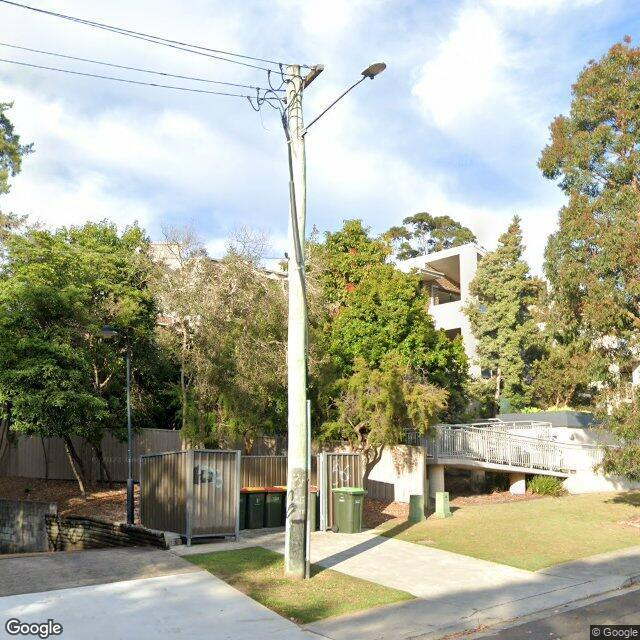crossarm: (302, 64, 324, 90)
steel-pole: (127, 345, 135, 526)
streetlight: (301, 61, 388, 136)
timber-pole: (284, 63, 309, 576)
